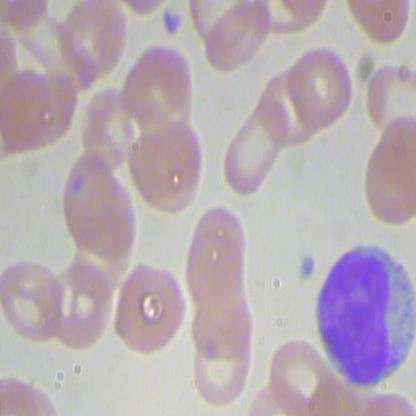Platelets: (294, 253, 319, 285), (161, 6, 182, 43)
RBC: (219, 95, 293, 207), (122, 122, 203, 220), (109, 258, 188, 355), (48, 257, 116, 354), (121, 45, 194, 133), (288, 42, 356, 132), (1, 256, 68, 345), (257, 62, 324, 151), (60, 1, 129, 82), (203, 1, 274, 74), (189, 326, 254, 405), (266, 336, 331, 415), (189, 283, 254, 361), (185, 228, 246, 308)
WBC: (313, 232, 415, 393)
